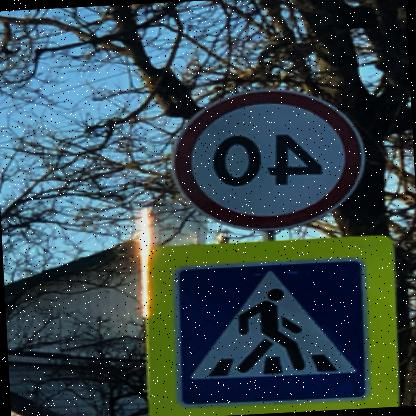crosswalk: (177, 256, 375, 406)
speedlimit: (172, 85, 370, 235)
